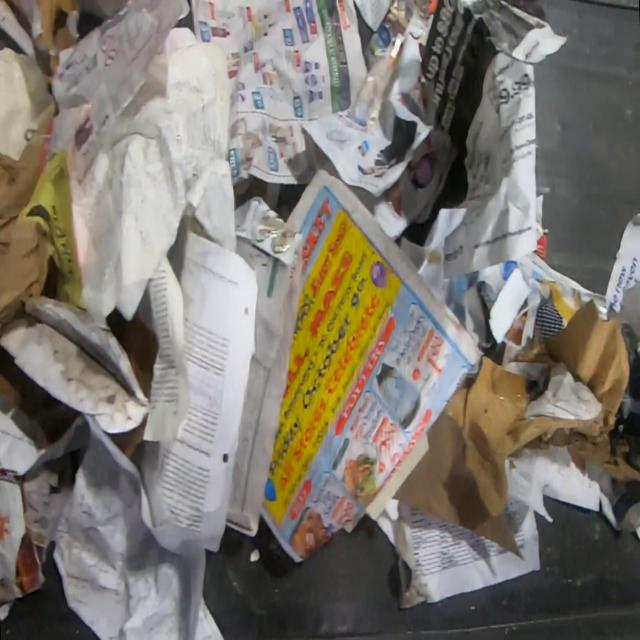cardboard: (440, 295, 640, 522), (0, 295, 151, 434), (391, 411, 525, 562), (0, 343, 82, 444), (233, 193, 305, 302), (0, 45, 59, 161), (0, 0, 86, 78), (108, 306, 159, 400), (104, 418, 145, 465), (534, 192, 550, 262)
